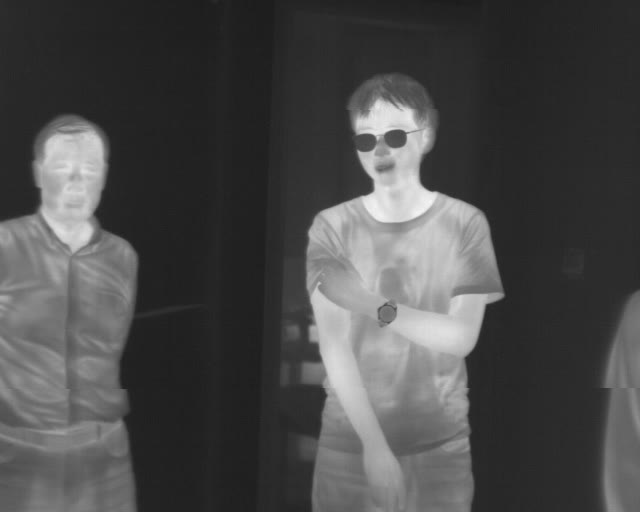face: (345, 70, 439, 188), (30, 112, 109, 227)
